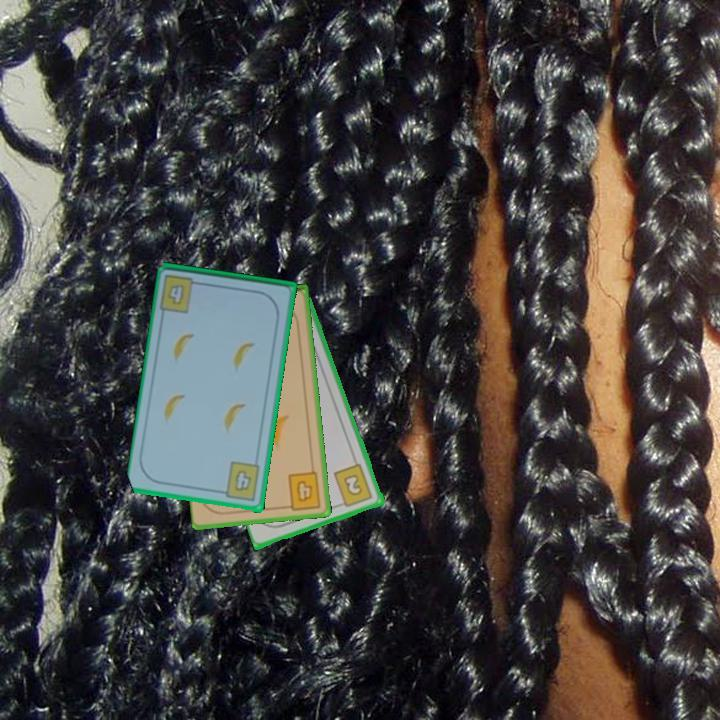2b: (331, 461, 376, 510)
4b: (157, 271, 206, 316), (216, 459, 263, 505), (281, 468, 324, 513)
